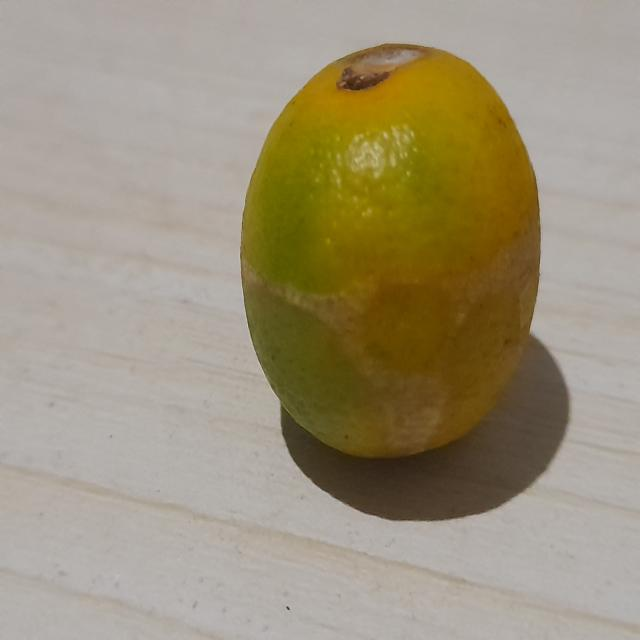greening: (237, 24, 551, 479)
